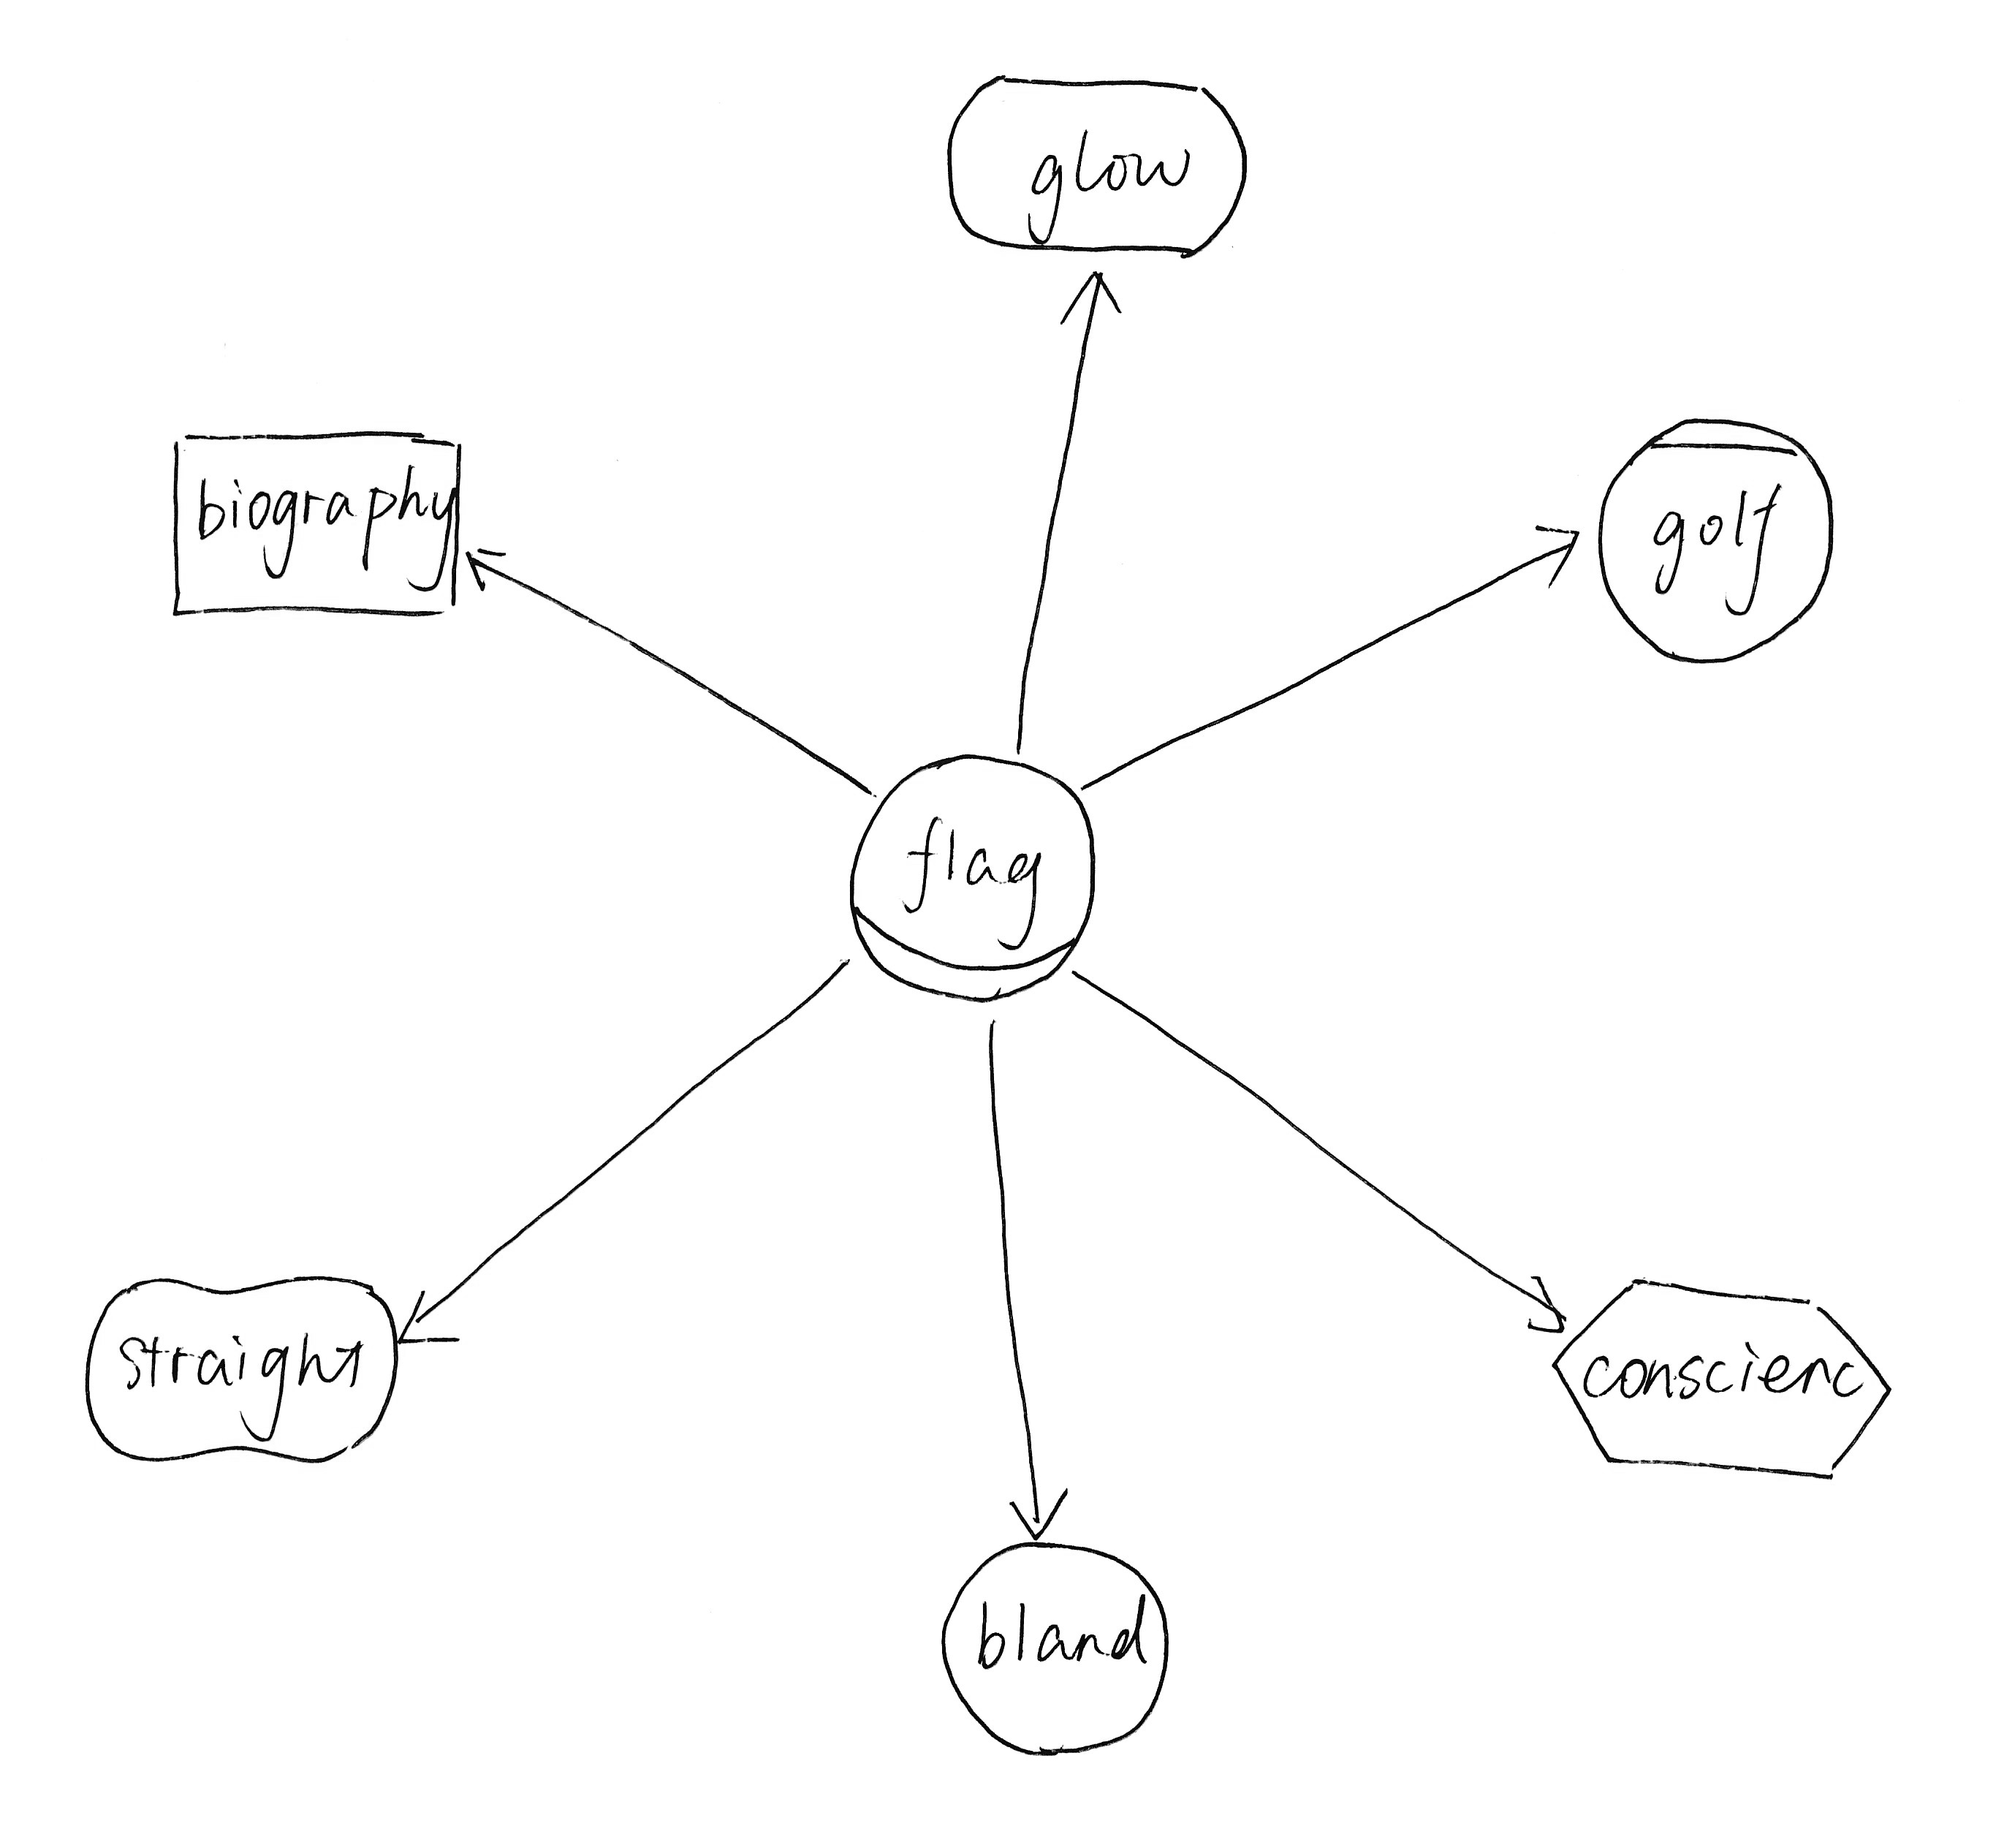actor: (930, 1526, 1184, 1765)
agent: (1580, 400, 1853, 687)
arrow: (1506, 501, 1589, 603), (1041, 264, 1144, 337), (389, 1276, 468, 1366), (1500, 1255, 1575, 1349), (993, 1479, 1083, 1554), (459, 537, 523, 607)
goal: (928, 54, 1257, 282)
quality: (71, 1257, 410, 1490)
resource: (153, 402, 480, 638)
role: (829, 739, 1111, 1024)
task: (1532, 1260, 1907, 1509)
